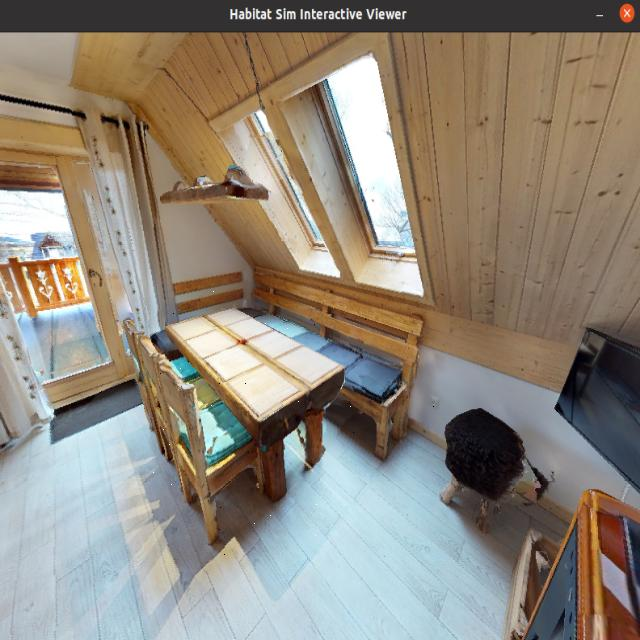chair: (144, 357, 266, 555), (316, 307, 454, 437)
table: (155, 284, 360, 538)
